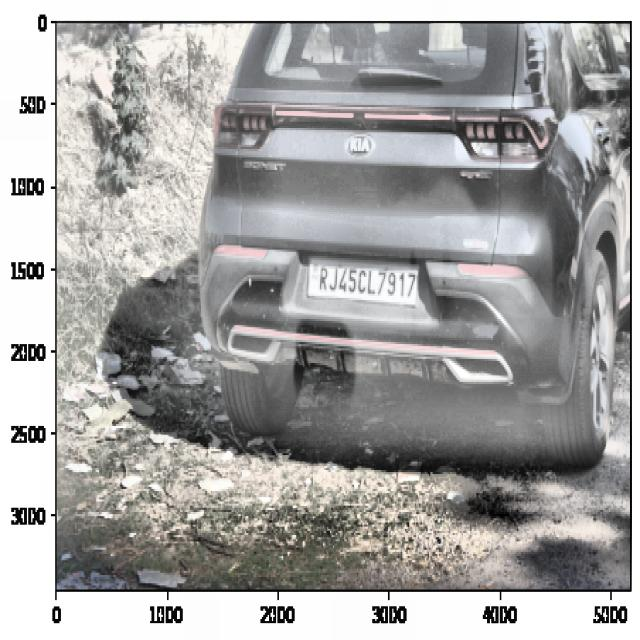license_plate: (314, 254, 422, 309)
